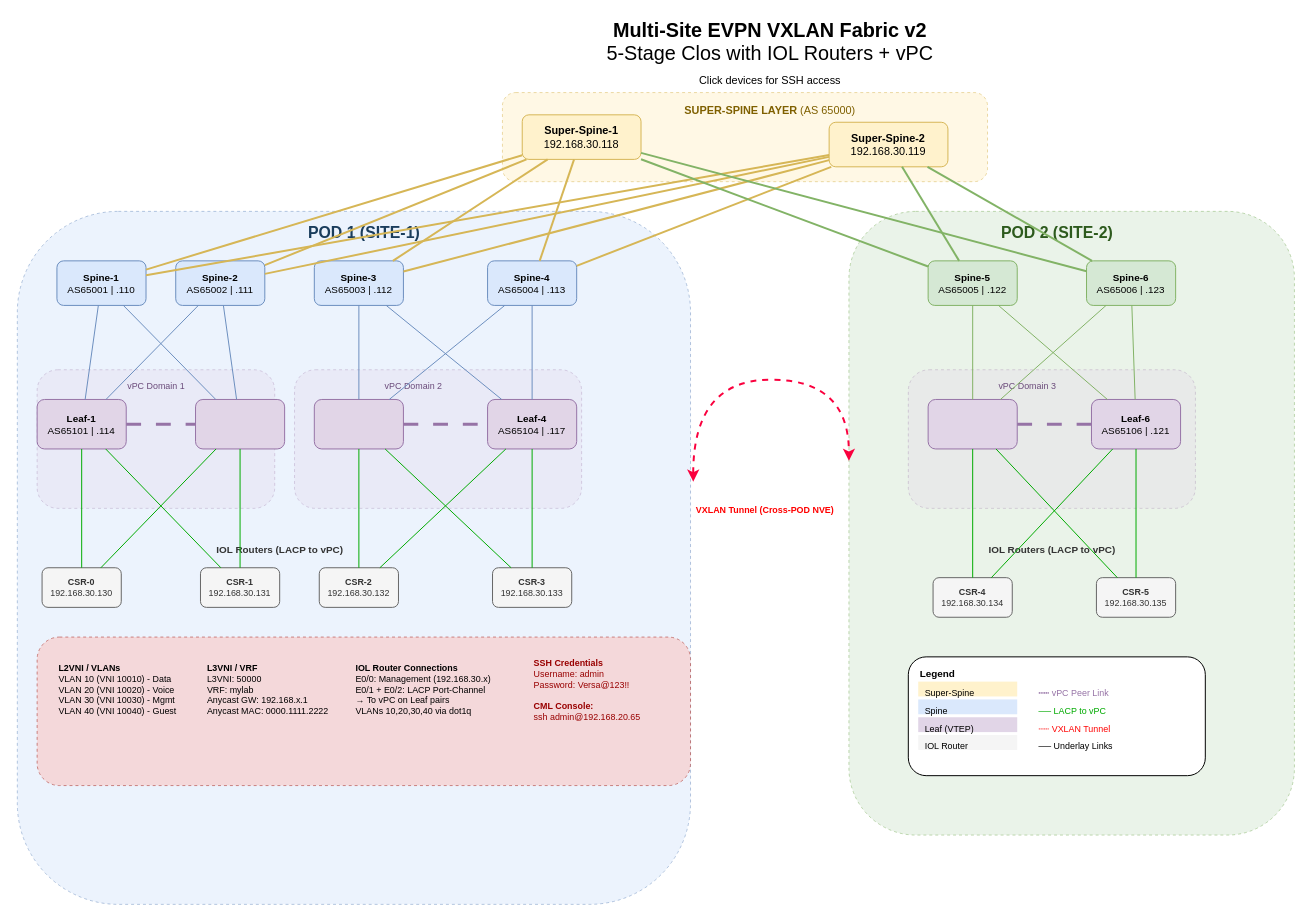
The diagram is 1312 pixels wide and 922 high, and some of its shapes have lost their labels. Here are the shapes that lost their labels. From the top down, the centre of each, then its label:
(x=240, y=423): Leaf-2 AS65102 | .115
(x=358, y=423): Leaf-3 AS65103 | .116
(x=972, y=423): Leaf-5 AS65105 | .120
